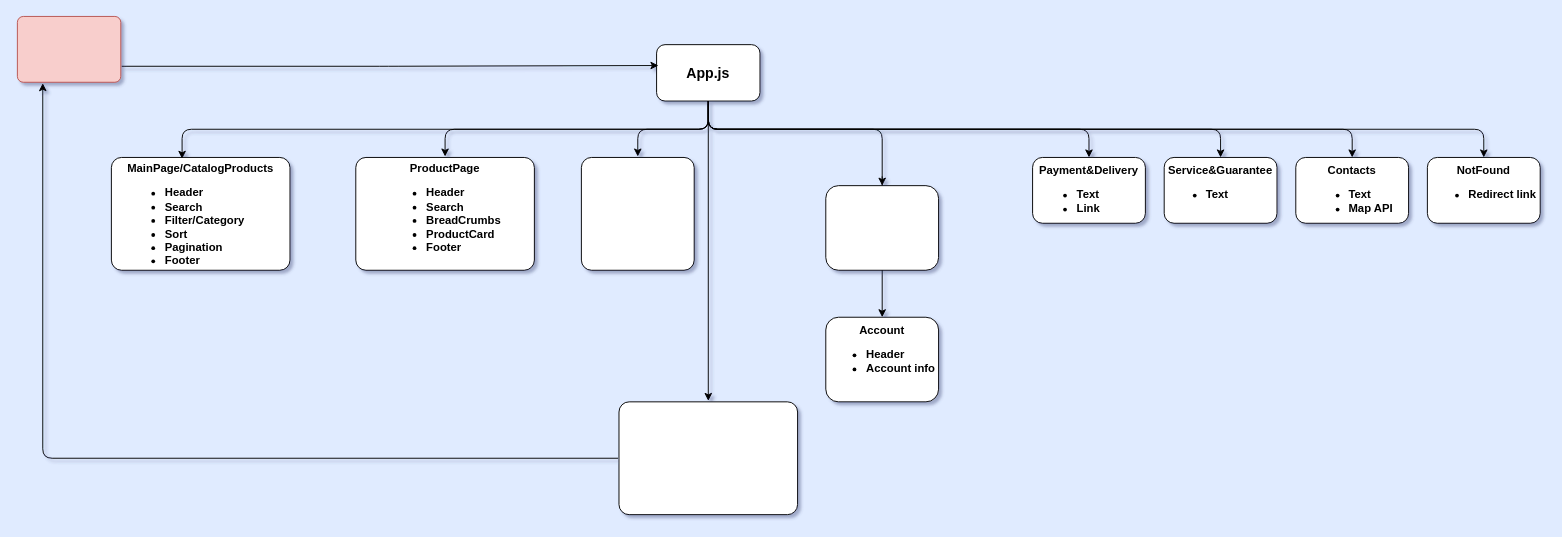
The diagram is 1562 pixels wide and 537 high, and some of its shapes have lost their labels. The box of each missing label's shape, as (x1, y1, x2, y2) in pixels:
AdminDashboard Header Create/Editing product block ProductList: (618, 401, 798, 515)
Backend/JSON Server/API: (16, 16, 121, 82)
Cart Header Search ProductList Order Footer: (580, 157, 694, 270)
Modal Registration form: (825, 185, 939, 270)
